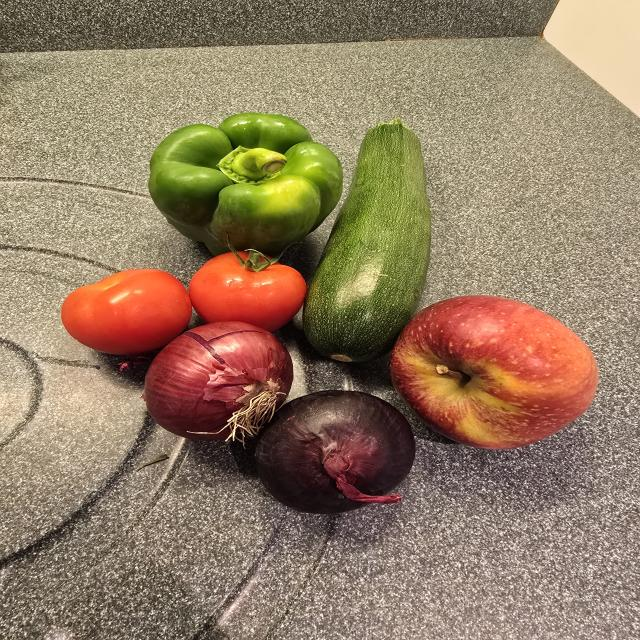Apple: (390, 296, 598, 449)
Bell Pepper: (149, 113, 343, 256)
Courgette: (303, 120, 431, 362)
Onion: (255, 390, 415, 514), (144, 322, 293, 440)
Tomato: (61, 269, 192, 354), (189, 250, 306, 332)
